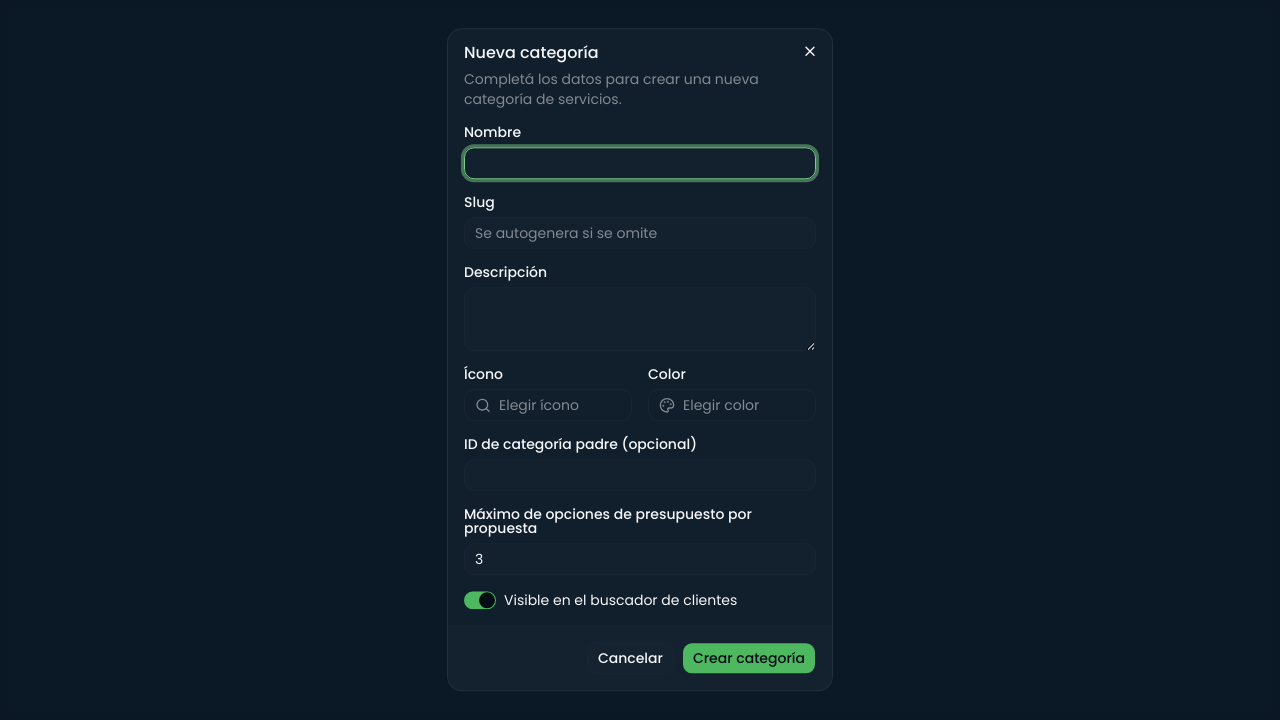
Test: CategoryFormDialog › muestra un error de validación cuando el nombre está vacío
Click the button "Crear categoría" at [749, 659], box top-left (682, 643), bottom-right (816, 675)
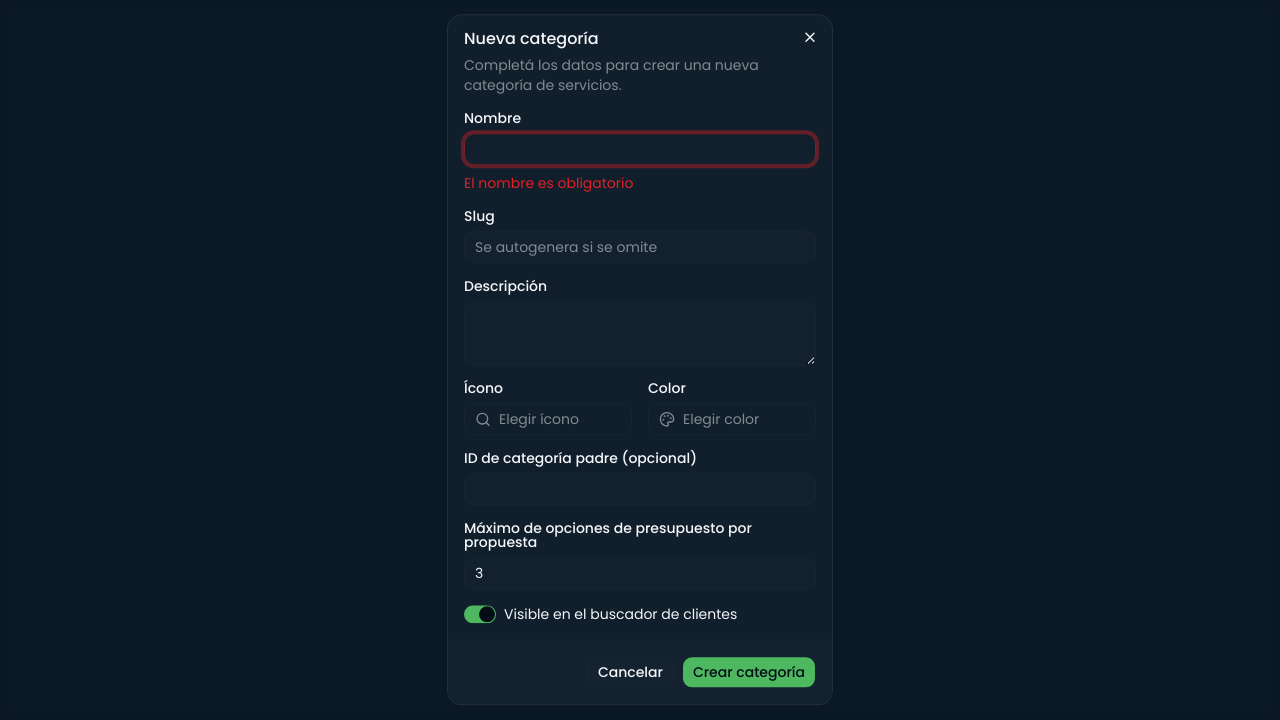
Check: the text "El nombre es obligatorio" is shown, box top-left (464, 173), bottom-right (634, 193)
